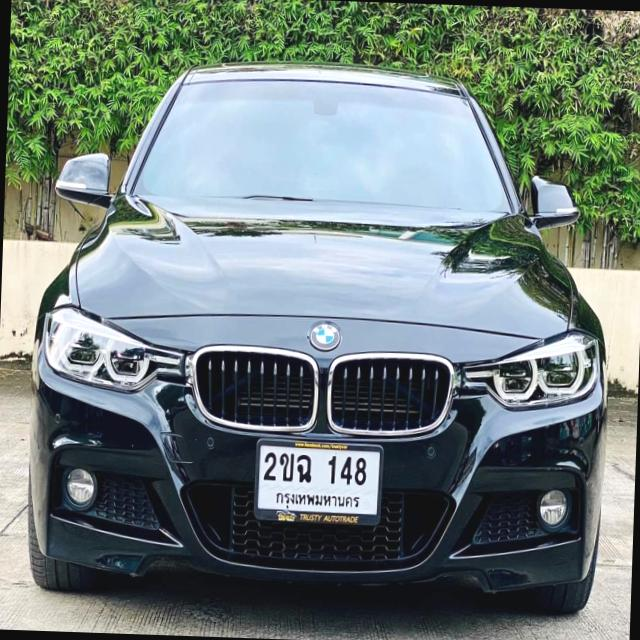license_plate: (252, 430, 385, 524)
